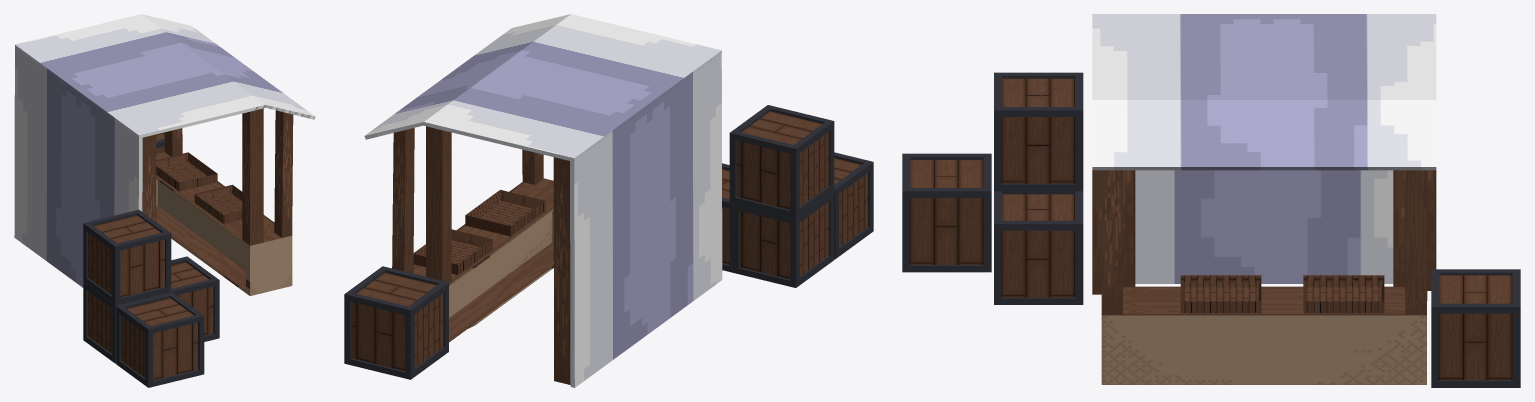
File: Shop2.fbx
3 views of the same model, side by side, from view 1: azimuth 30°, elevation 25°; view 2: azimuth 150°, elevation 25°; view 3: azimuth 270°, elevation 25° (orthographic). The views are drawn at different scales.
Visible parts, largest first — view 1: box3.001; view 2: box3.001; view 3: box3.001.
Part boxes in pixels (x1,y1,x2,y2): box3.001: (14, 14, 315, 387); box3.001: (344, 14, 873, 387); box3.001: (902, 14, 1520, 387).
Size of the model in its own units: 118 by 93.12 by 194.
Materials: 14 (14 with a texture image).
